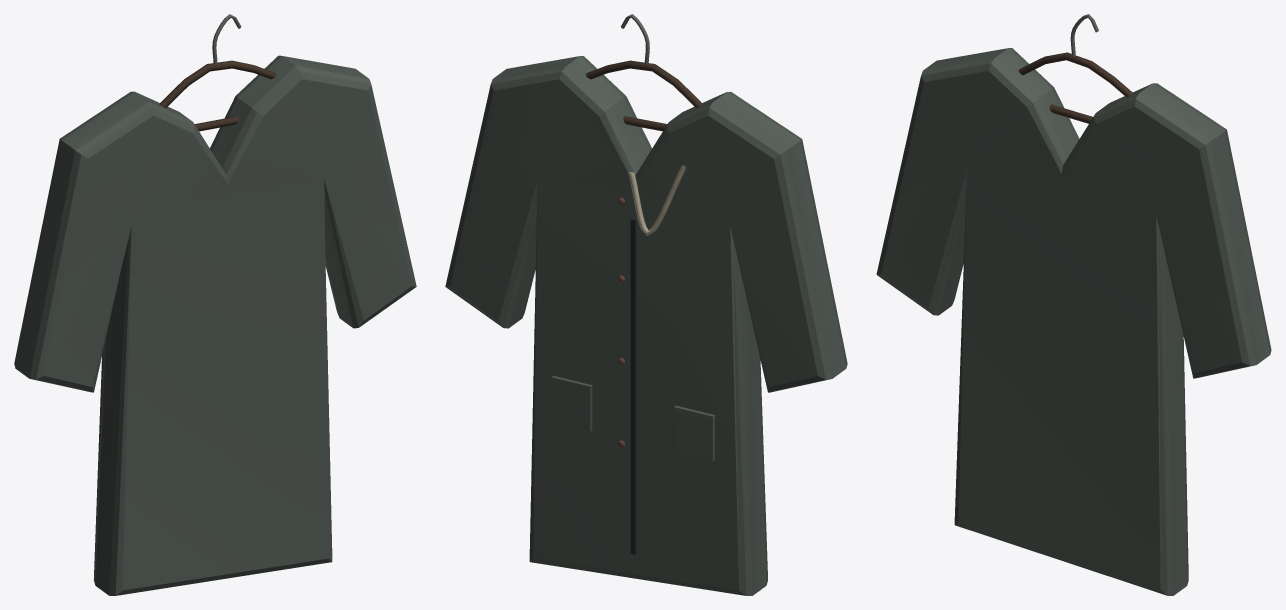
The model's file is prop-hanging-coat-v01.glb.
3 views of the same model, side by side, from view 1: azimuth 30°, elevation 25°; view 2: azimuth 150°, elevation 25°; view 3: azimuth 330°, elevation 25° (orthographic).
Parts seen in each view (by area): view 1: hanging-coat; view 2: hanging-coat; view 3: hanging-coat.
Part boxes in pixels (x1,y1,x2,y2): hanging-coat: (14,14,416,595); hanging-coat: (445,14,847,595); hanging-coat: (876,14,1271,595).
Bounding box in the file's own units: 0.8815 × 1.23 × 0.12.
